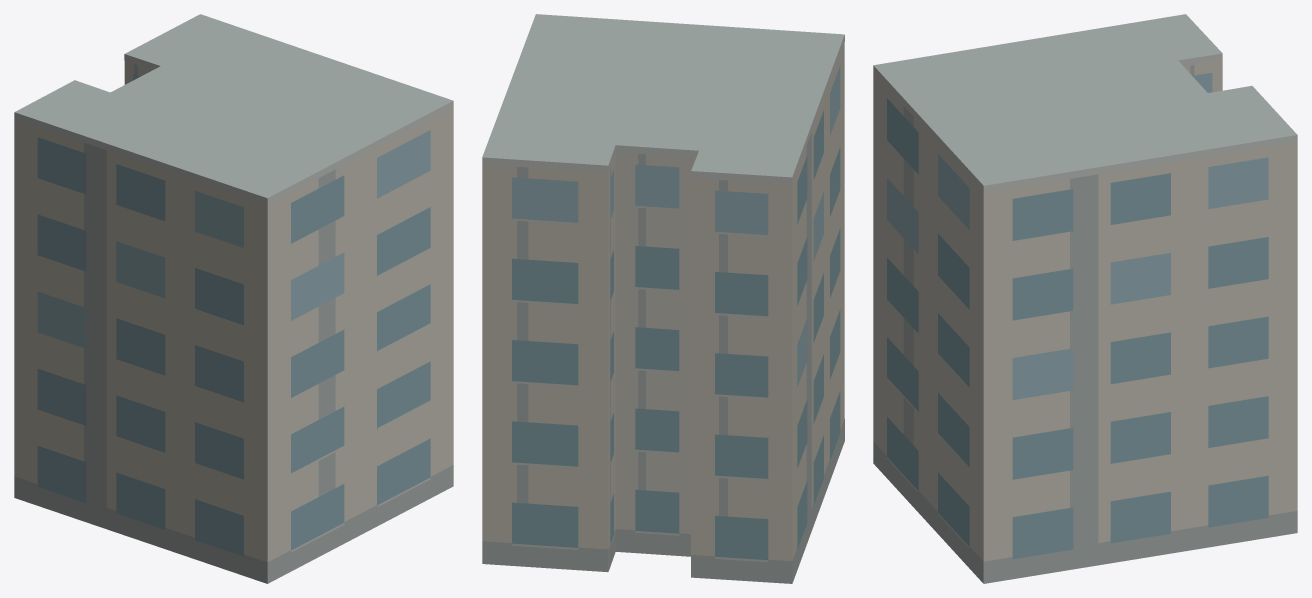
Rendered from survey-upis-32678508.glb.
3 renders of one model, left to right at view 1: azimuth 30°, elevation 25°; view 2: azimuth 150°, elevation 25°; view 3: azimuth 270°, elevation 25°, orthographic. The views are drawn at different scales.
Visible parts, largest first — view 1: survey-upis-32678508.tmp; view 2: survey-upis-32678508.tmp; view 3: survey-upis-32678508.tmp.
Boxes of the visible parts, left/top/right/bottom form: survey-upis-32678508.tmp: left=14, top=14, right=453, bottom=583; survey-upis-32678508.tmp: left=482, top=14, right=844, bottom=583; survey-upis-32678508.tmp: left=873, top=14, right=1297, bottom=583.
Bounding box in the file's own units: 12.82 × 13.83 × 13.37.
